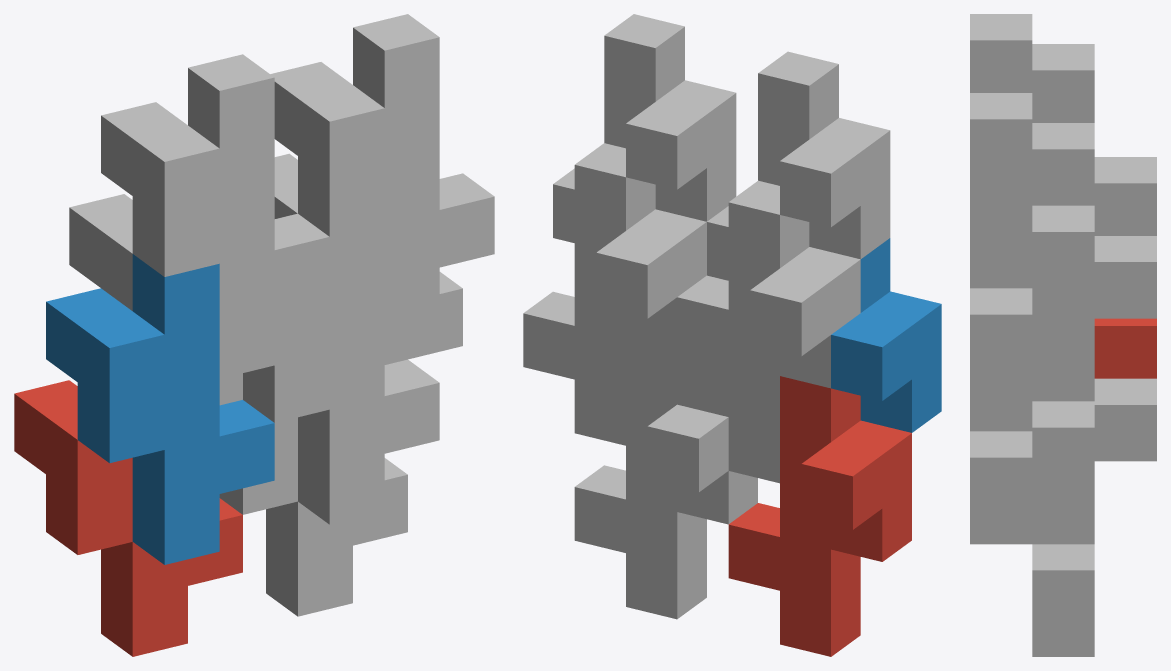
The model's file is tiling.obj.
3 views of the same model, side by side, from view 1: azimuth 30°, elevation 25°; view 2: azimuth 150°, elevation 25°; view 3: azimuth 270°, elevation 25° (orthographic). The views are drawn at different scales.
Visible parts, largest first — view 1: copy_1_domain_2, copy_1_domain_4, copy_1_domain_8, copy_1_domain_6, copy_1_domain_1, copy_1_domain_5, copy_1_domain_3, copy_1_domain_7; view 2: copy_1_domain_1, copy_1_domain_7, copy_1_domain_3, copy_1_domain_5, copy_1_domain_4, copy_1_domain_8, copy_1_domain_2, copy_1_domain_6; view 3: copy_1_domain_7, copy_1_domain_8, copy_1_domain_5, copy_1_domain_4, copy_1_domain_6, copy_1_domain_3, copy_1_domain_1.
Part boxes in pixels (x1,y1,x2,y2): copy_1_domain_2: (46, 254, 274, 564); copy_1_domain_4: (101, 54, 329, 378); copy_1_domain_8: (270, 14, 494, 338); copy_1_domain_6: (243, 223, 439, 524); copy_1_domain_1: (14, 380, 242, 656); copy_1_domain_5: (219, 417, 407, 616); copy_1_domain_3: (69, 194, 242, 405); copy_1_domain_7: (274, 153, 462, 364); copy_1_domain_1: (728, 376, 911, 656); copy_1_domain_7: (523, 143, 706, 445); copy_1_domain_3: (677, 180, 860, 483); copy_1_domain_5: (574, 338, 757, 619); copy_1_domain_4: (707, 51, 890, 280); copy_1_domain_8: (553, 14, 736, 242); copy_1_domain_2: (831, 238, 941, 432); copy_1_domain_6: (677, 275, 728, 363); copy_1_domain_7: (1032, 205, 1156, 513); copy_1_domain_8: (970, 93, 1094, 401); copy_1_domain_5: (1032, 378, 1156, 656); copy_1_domain_4: (970, 14, 1094, 122); copy_1_domain_6: (970, 401, 1032, 544); copy_1_domain_3: (1094, 157, 1156, 235); copy_1_domain_1: (1094, 318, 1156, 378).
Bounding box in the file's own units: 7 × 10 × 3.
